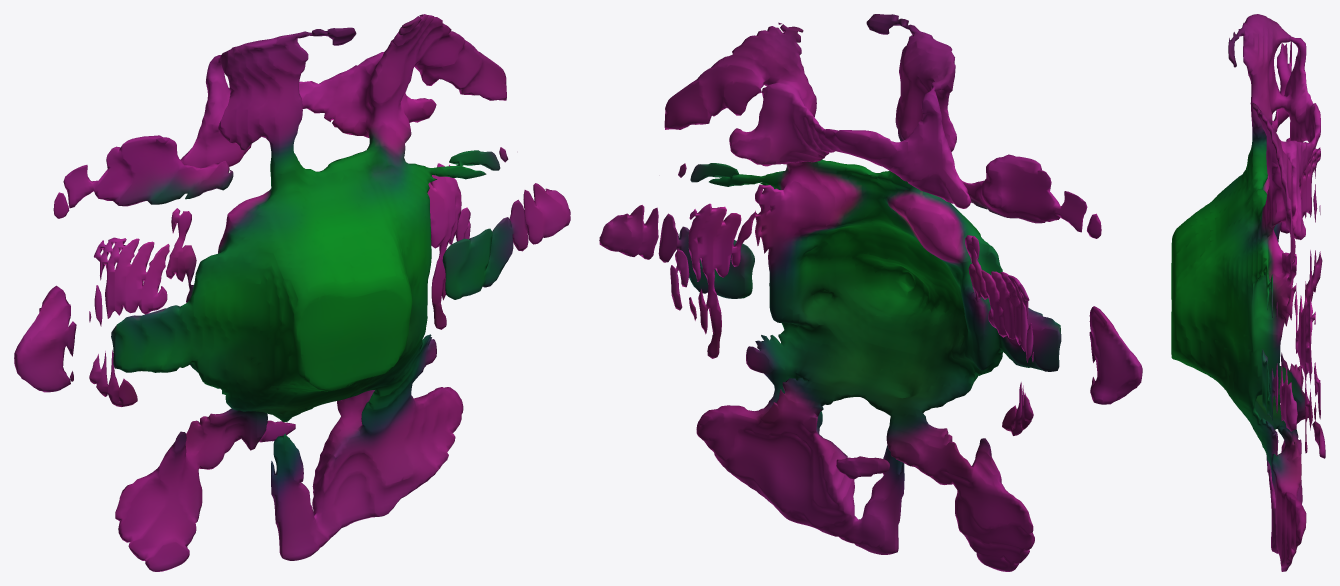
3 views of the same model, side by side, from view 1: azimuth 30°, elevation 25°; view 2: azimuth 150°, elevation 25°; view 3: azimuth 270°, elevation 25° (orthographic). The views are drawn at different scales.
Parts seen in each view (by area): view 1: plyFile; view 2: plyFile; view 3: plyFile.
Boxes of the visible parts, x1,y1,x2,y2 form: plyFile: (14, 14, 570, 571); plyFile: (599, 14, 1142, 571); plyFile: (1171, 14, 1325, 571).
Size of the model in its own units: 197 by 184 by 50.1.
